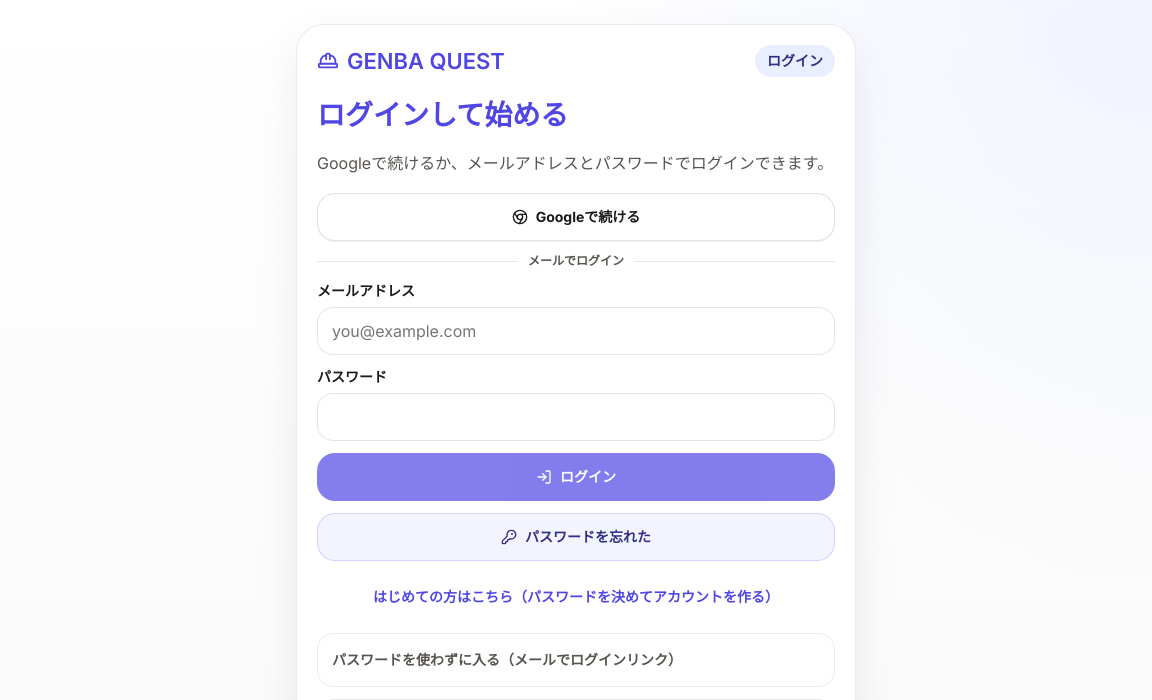
Test: App entry gate › shows an error and releases the Google login button when OAuth fails
The width and height of the screenshot is (1152, 700).
Click the button "Googleで続ける".
click(576, 217)  # box [317,193,835,241]
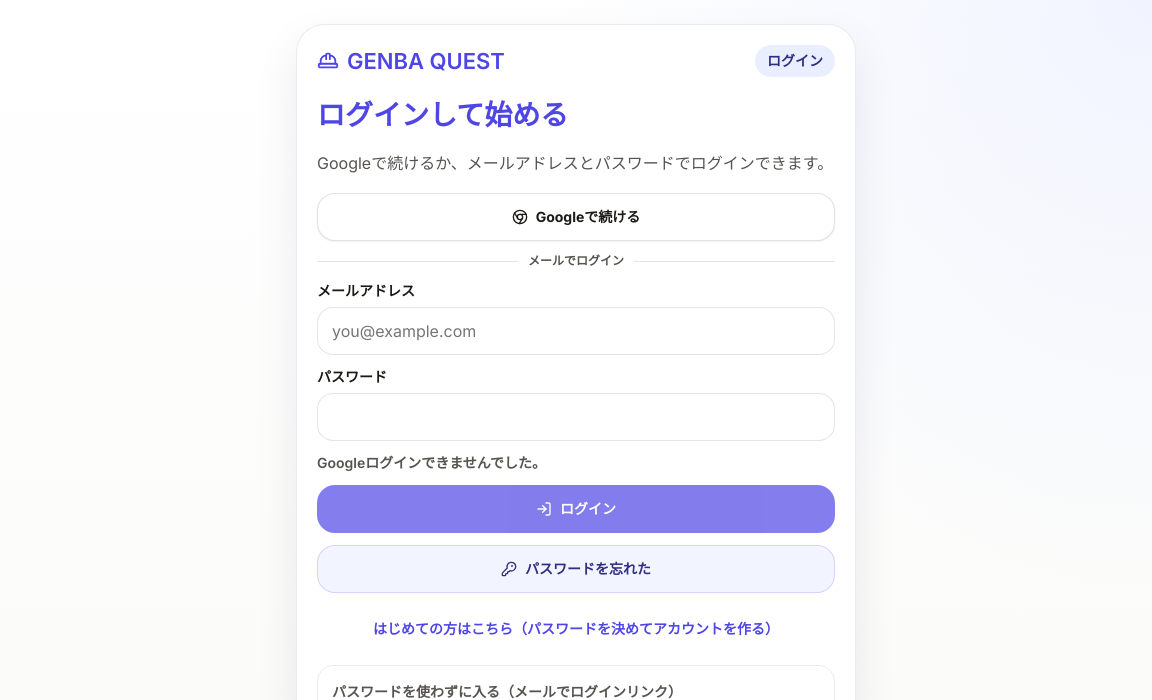
Check: the text "Googleログインできませんでした。" is shown, box [317,454,546,471]
